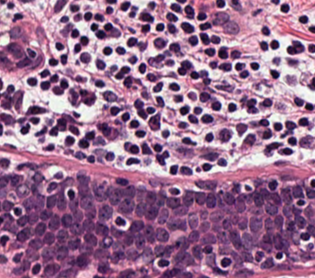nucleus: (107, 187, 122, 204), (118, 198, 134, 213), (94, 182, 107, 200), (98, 205, 112, 220), (213, 12, 228, 24), (223, 22, 238, 34), (80, 194, 92, 209), (183, 191, 194, 206), (56, 192, 65, 210), (281, 188, 291, 204), (122, 186, 135, 197), (149, 115, 159, 129), (205, 193, 215, 207), (194, 192, 205, 204), (223, 192, 234, 204), (268, 193, 280, 204), (135, 203, 146, 215), (103, 91, 116, 101), (146, 191, 156, 204), (253, 193, 263, 206), (46, 195, 56, 208), (166, 198, 179, 208), (54, 0, 65, 11), (77, 174, 88, 185), (181, 22, 193, 32), (220, 129, 230, 141), (265, 204, 277, 214), (34, 195, 43, 208), (236, 199, 245, 212), (28, 106, 44, 113), (293, 41, 303, 52), (244, 134, 255, 144), (301, 136, 312, 146), (292, 186, 302, 197), (202, 153, 217, 160), (156, 192, 164, 205), (62, 24, 71, 35), (154, 38, 165, 47), (101, 124, 110, 135), (79, 185, 88, 196), (200, 33, 209, 43), (218, 48, 227, 58), (80, 53, 90, 62), (236, 124, 246, 133), (33, 173, 43, 182), (141, 13, 152, 21), (204, 181, 215, 189), (69, 199, 76, 211), (231, 0, 240, 9), (153, 82, 162, 91), (200, 92, 209, 101), (134, 100, 143, 109), (69, 125, 78, 134), (47, 182, 56, 191), (185, 6, 193, 16), (166, 13, 176, 21), (181, 61, 191, 69), (202, 114, 212, 122), (181, 166, 191, 174), (182, 138, 195, 144), (267, 143, 280, 149), (58, 118, 65, 129), (116, 178, 127, 185), (127, 38, 136, 46), (170, 43, 179, 51), (96, 60, 105, 68), (138, 109, 146, 118), (286, 121, 295, 129), (142, 144, 150, 153), (129, 145, 138, 153), (280, 148, 292, 154), (126, 158, 138, 164), (306, 189, 314, 198), (220, 63, 230, 70), (84, 97, 94, 104), (261, 189, 268, 199), (121, 2, 129, 10), (189, 36, 197, 44), (212, 102, 220, 110), (228, 103, 236, 111), (180, 106, 188, 114), (111, 107, 119, 115), (189, 115, 197, 123), (66, 136, 74, 144), (171, 4, 180, 11), (197, 13, 206, 20), (168, 24, 175, 33), (271, 40, 278, 49), (205, 48, 214, 55), (231, 51, 240, 58), (154, 54, 163, 61), (124, 77, 131, 86), (95, 80, 104, 87), (170, 83, 179, 90), (53, 87, 62, 94), (156, 97, 163, 106), (294, 98, 303, 105), (36, 128, 45, 135), (79, 140, 88, 147), (157, 155, 164, 164), (202, 163, 211, 170), (269, 180, 276, 189), (67, 189, 74, 198), (200, 23, 210, 29), (216, 0, 224, 7), (281, 4, 288, 12), (84, 12, 91, 20), (71, 29, 78, 37), (96, 31, 104, 38), (211, 36, 219, 43), (260, 42, 267, 50), (287, 46, 295, 53), (103, 47, 111, 54), (235, 63, 243, 70), (121, 66, 129, 73), (40, 70, 48, 77), (147, 74, 155, 81), (60, 80, 67, 88), (41, 82, 49, 89), (188, 92, 195, 100), (247, 99, 255, 106), (263, 99, 271, 106), (299, 118, 307, 125), (130, 120, 138, 127), (274, 123, 282, 130), (50, 127, 57, 135), (86, 132, 94, 139), (205, 133, 212, 141), (96, 137, 104, 144), (288, 137, 296, 144), (106, 152, 113, 160), (146, 107, 155, 113), (248, 107, 257, 113), (135, 131, 144, 137), (75, 152, 84, 158), (170, 165, 176, 174), (170, 188, 179, 194), (104, 23, 111, 30), (156, 23, 163, 30), (142, 25, 149, 32), (262, 27, 269, 34), (129, 56, 136, 63), (251, 62, 258, 69), (178, 67, 185, 74), (271, 70, 278, 77), (122, 113, 129, 120), (162, 130, 169, 137), (263, 131, 270, 138), (154, 144, 161, 151), (70, 5, 78, 11), (60, 16, 68, 22), (299, 16, 307, 22), (81, 36, 87, 44), (55, 43, 63, 49), (74, 44, 80, 52), (308, 44, 314, 52), (116, 47, 124, 53), (139, 64, 145, 72), (240, 71, 248, 77), (174, 95, 182, 101), (305, 103, 313, 109), (30, 117, 38, 123), (260, 119, 268, 125), (179, 122, 187, 128), (218, 159, 226, 165), (95, 14, 102, 20), (49, 59, 56, 65), (200, 70, 207, 76), (116, 72, 123, 78), (191, 72, 198, 78), (203, 78, 210, 84), (194, 107, 201, 113), (61, 55, 66, 63), (106, 7, 112, 13), (74, 14, 80, 20), (91, 24, 97, 30), (273, 58, 279, 64), (210, 61, 216, 67), (51, 75, 57, 81), (72, 91, 76, 100), (88, 156, 94, 162), (166, 60, 173, 65), (76, 76, 83, 81), (80, 90, 87, 95), (46, 144, 53, 149), (54, 173, 61, 178), (297, 200, 304, 205), (149, 2, 154, 8), (309, 26, 314, 32), (140, 43, 145, 49), (142, 92, 147, 98), (162, 152, 168, 157), (129, 12, 134, 17), (111, 65, 116, 70), (245, 185, 250, 190), (311, 179, 314, 187), (289, 60, 296, 63), (235, 184, 238, 191), (312, 78, 314, 87), (107, 0, 115, 2)
